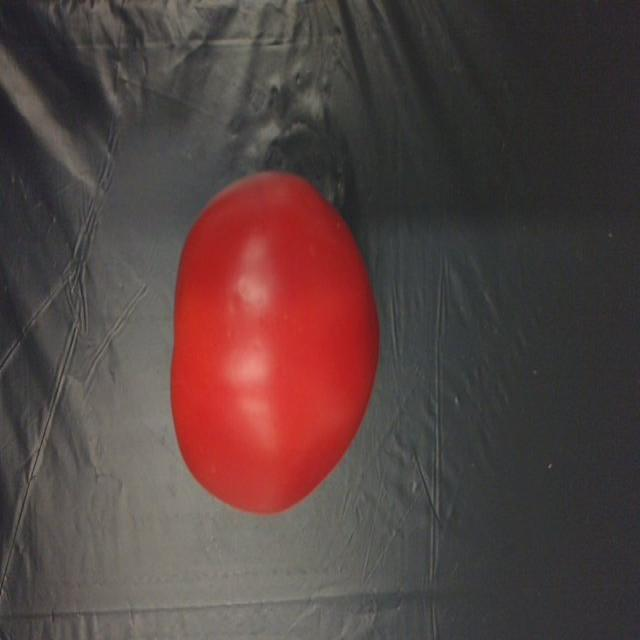kirmizi: (157, 162, 379, 526)
